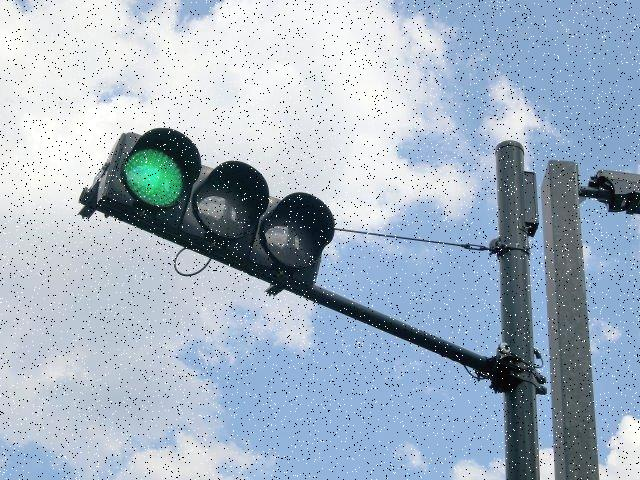cars: (103, 131, 338, 283)
